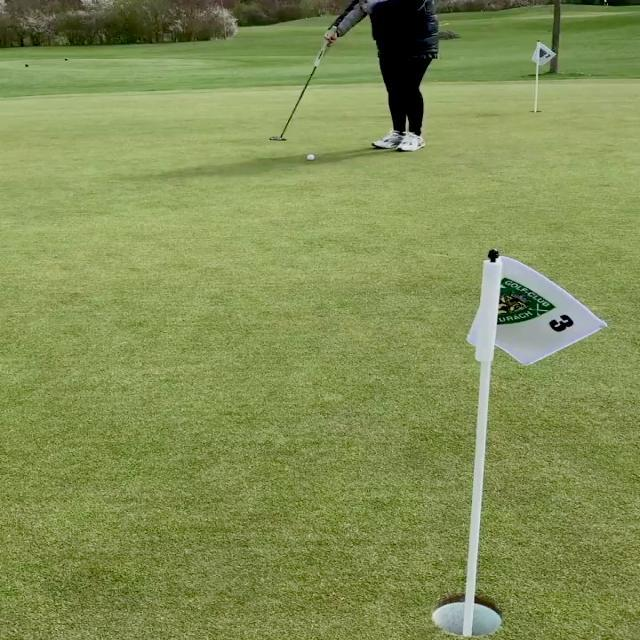ClubHandle: (269, 26, 337, 141)
ClubHead: (269, 137, 286, 140)
GolfBall: (307, 154, 315, 160)
